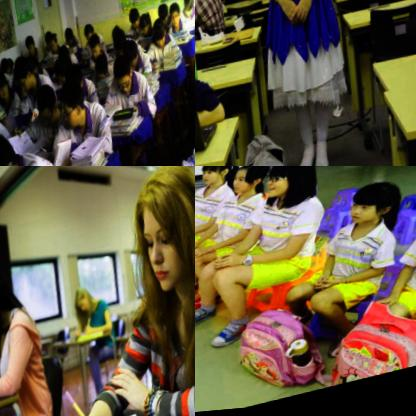head: (120, 166, 195, 314), (346, 183, 408, 238), (264, 166, 319, 205), (56, 78, 92, 134), (0, 256, 24, 331), (33, 81, 66, 131), (110, 53, 139, 103), (225, 166, 267, 200), (10, 54, 40, 97), (198, 166, 237, 192), (0, 134, 29, 166), (72, 286, 97, 321), (92, 51, 114, 87), (123, 41, 144, 76), (149, 21, 171, 54), (67, 65, 88, 97), (24, 52, 45, 81), (53, 57, 71, 86), (87, 35, 105, 63), (113, 30, 130, 58), (136, 13, 153, 40), (0, 69, 13, 103), (156, 2, 172, 29), (167, 6, 183, 33), (56, 45, 73, 70), (81, 21, 98, 46), (127, 9, 142, 34), (180, 0, 195, 21), (47, 35, 61, 57), (63, 26, 77, 48), (0, 55, 14, 76), (43, 29, 55, 53), (24, 36, 38, 55)
